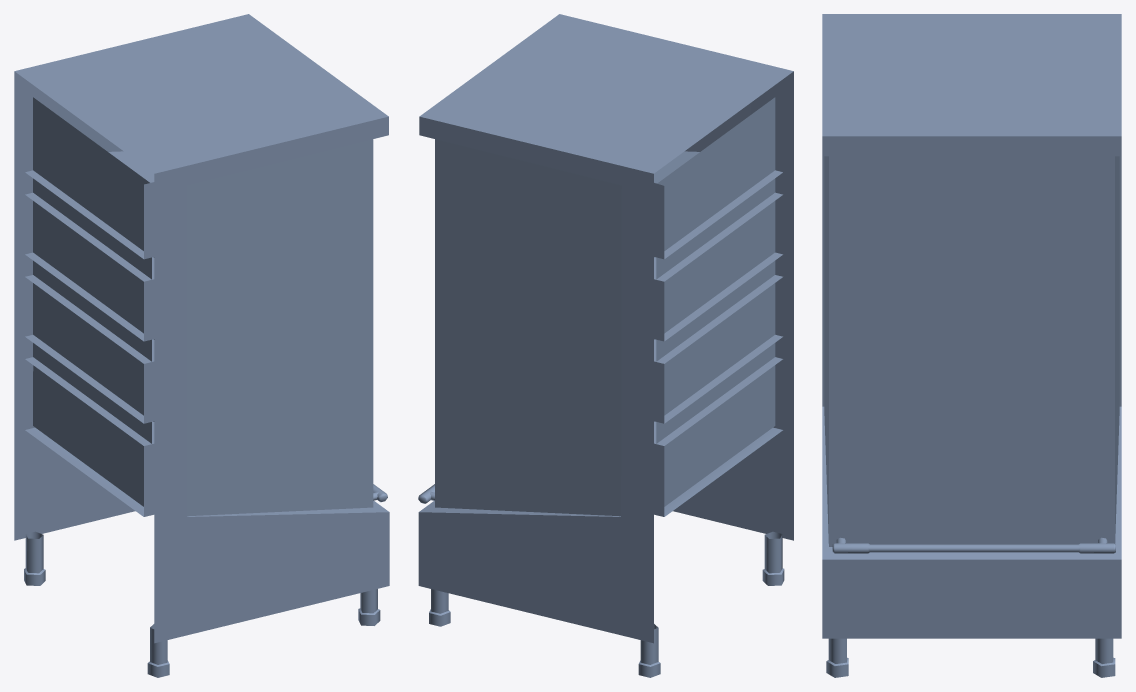
Rendered from Burger.fbx.
3 views of the same model, side by side, from view 1: azimuth 30°, elevation 25°; view 2: azimuth 150°, elevation 25°; view 3: azimuth 270°, elevation 25° (orthographic). The views are drawn at different scales.
Visible parts, largest first — view 1: Burger; view 2: Burger; view 3: Burger.
Boxes of the visible parts, left/top/right/bottom form: Burger: left=14, top=14, right=389, bottom=677; Burger: left=418, top=14, right=793, bottom=677; Burger: left=822, top=14, right=1121, bottom=677.
Bounding box in the file's own units: 0.9868 × 2 × 1.
